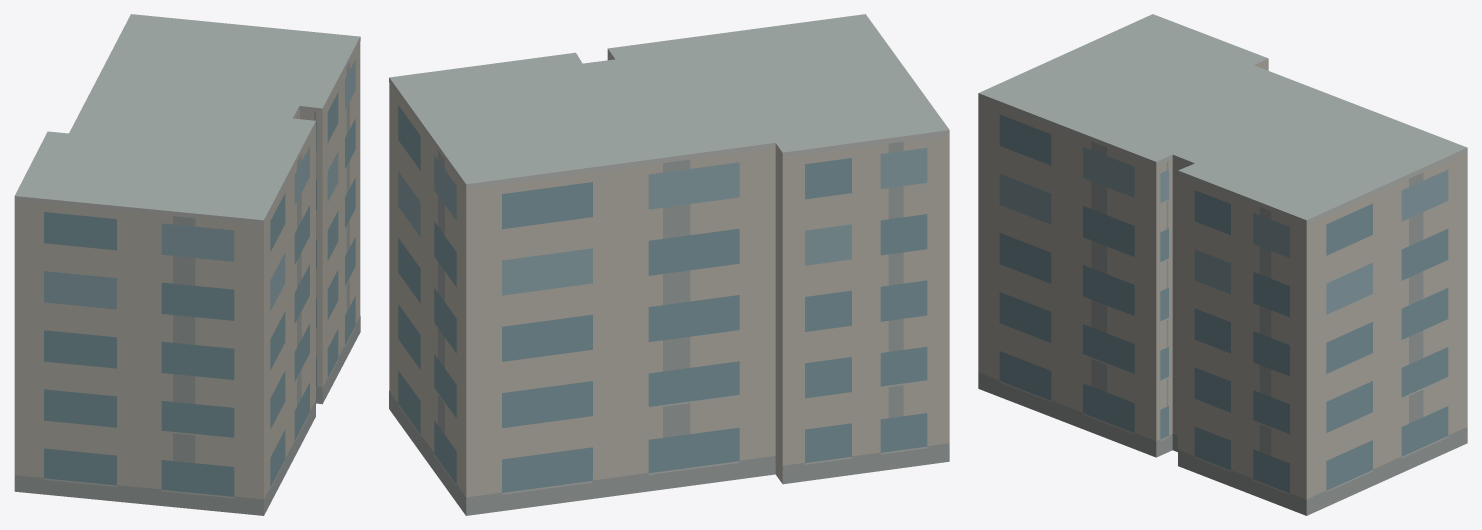
Rendered from survey-upis-32696475.glb.
The picture shows the model from 3 angles, left to right: view 1: azimuth 30°, elevation 25°; view 2: azimuth 150°, elevation 25°; view 3: azimuth 270°, elevation 25°; orthographic projection. The views are drawn at different scales.
Parts seen in each view (by area): view 1: survey-upis-32696475.tmp; view 2: survey-upis-32696475.tmp; view 3: survey-upis-32696475.tmp.
Boxes of the visible parts, left/top/right/bottom form: survey-upis-32696475.tmp: left=14, top=14, right=360, bottom=515; survey-upis-32696475.tmp: left=389, top=14, right=949, bottom=515; survey-upis-32696475.tmp: left=978, top=14, right=1467, bottom=515.
Bounding box in the file's own units: 22.9 × 15.3 × 22.95.
